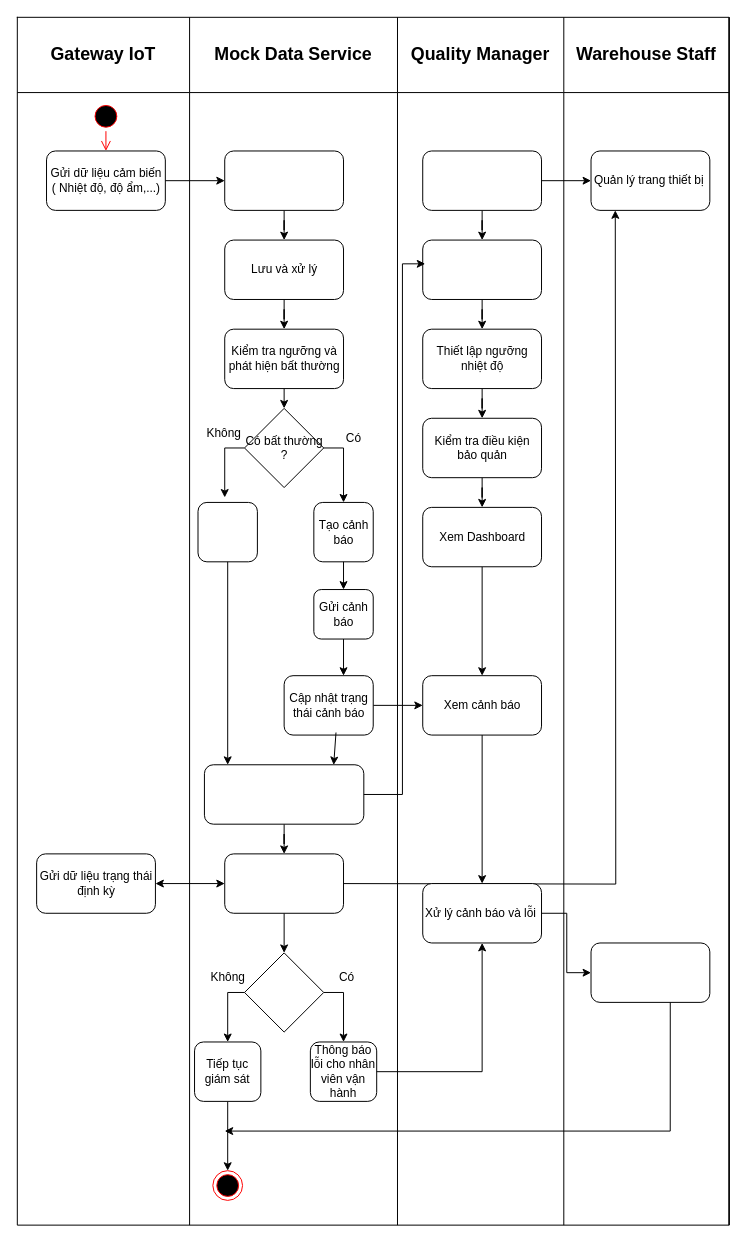
Image size: 746x1242. Some labels were removed from this diagram. Here are the shapes that lost their labels. From the top down, the centre of each, then its label:
At (x=284, y=180): "TIếp nhận dữ liệu".
At (x=482, y=180): "Xem dữ liệu cảm biến theo real-time".
At (x=482, y=269): "Xem lịch sử dữ liệu cảm biến".
At (x=227, y=531): "Cập nhật dữ liệu real-time".
At (x=283, y=794): "Lưu lịch sử dữ liệu và cập nhật trạng thái thiết bị COLD CHAIN".
At (x=284, y=883): "Theo dõi thiết bị xe , kho theo real-time".
At (x=284, y=992): "Phát hiện lỗi ?".
At (x=650, y=972): "Điều chỉnh".
